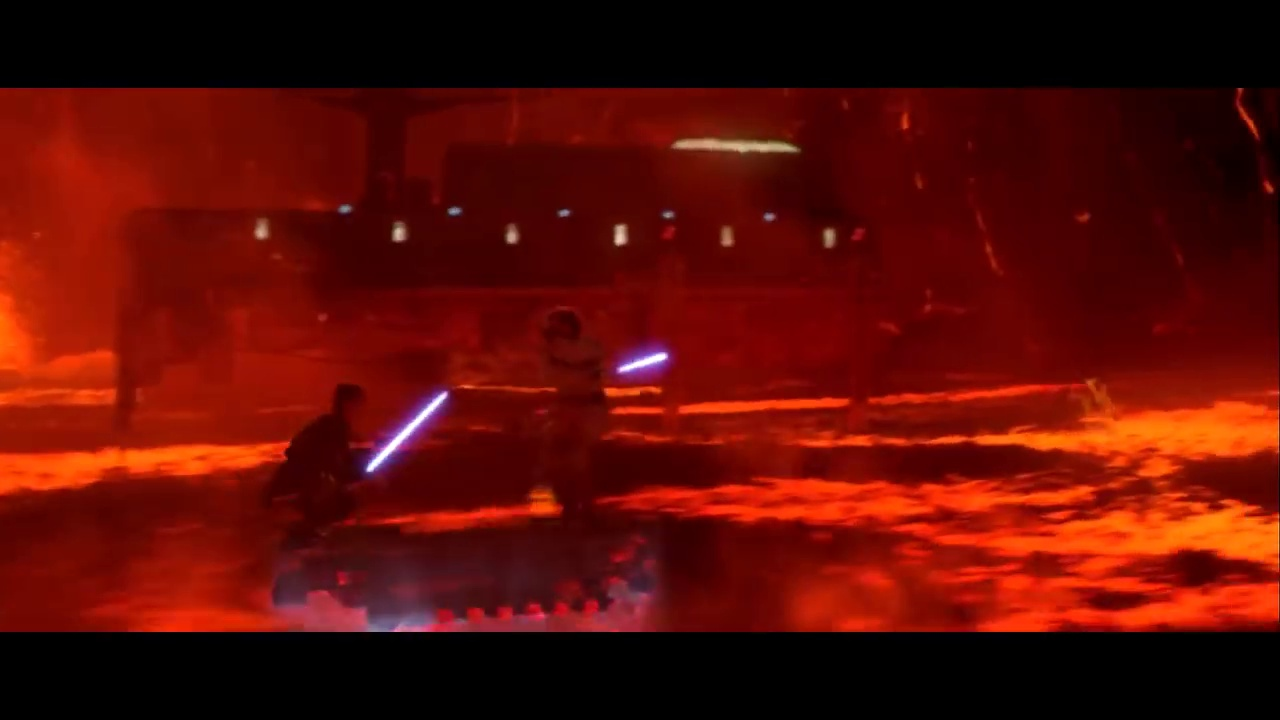lightsaber: (357, 382, 454, 488), (611, 344, 680, 380)
